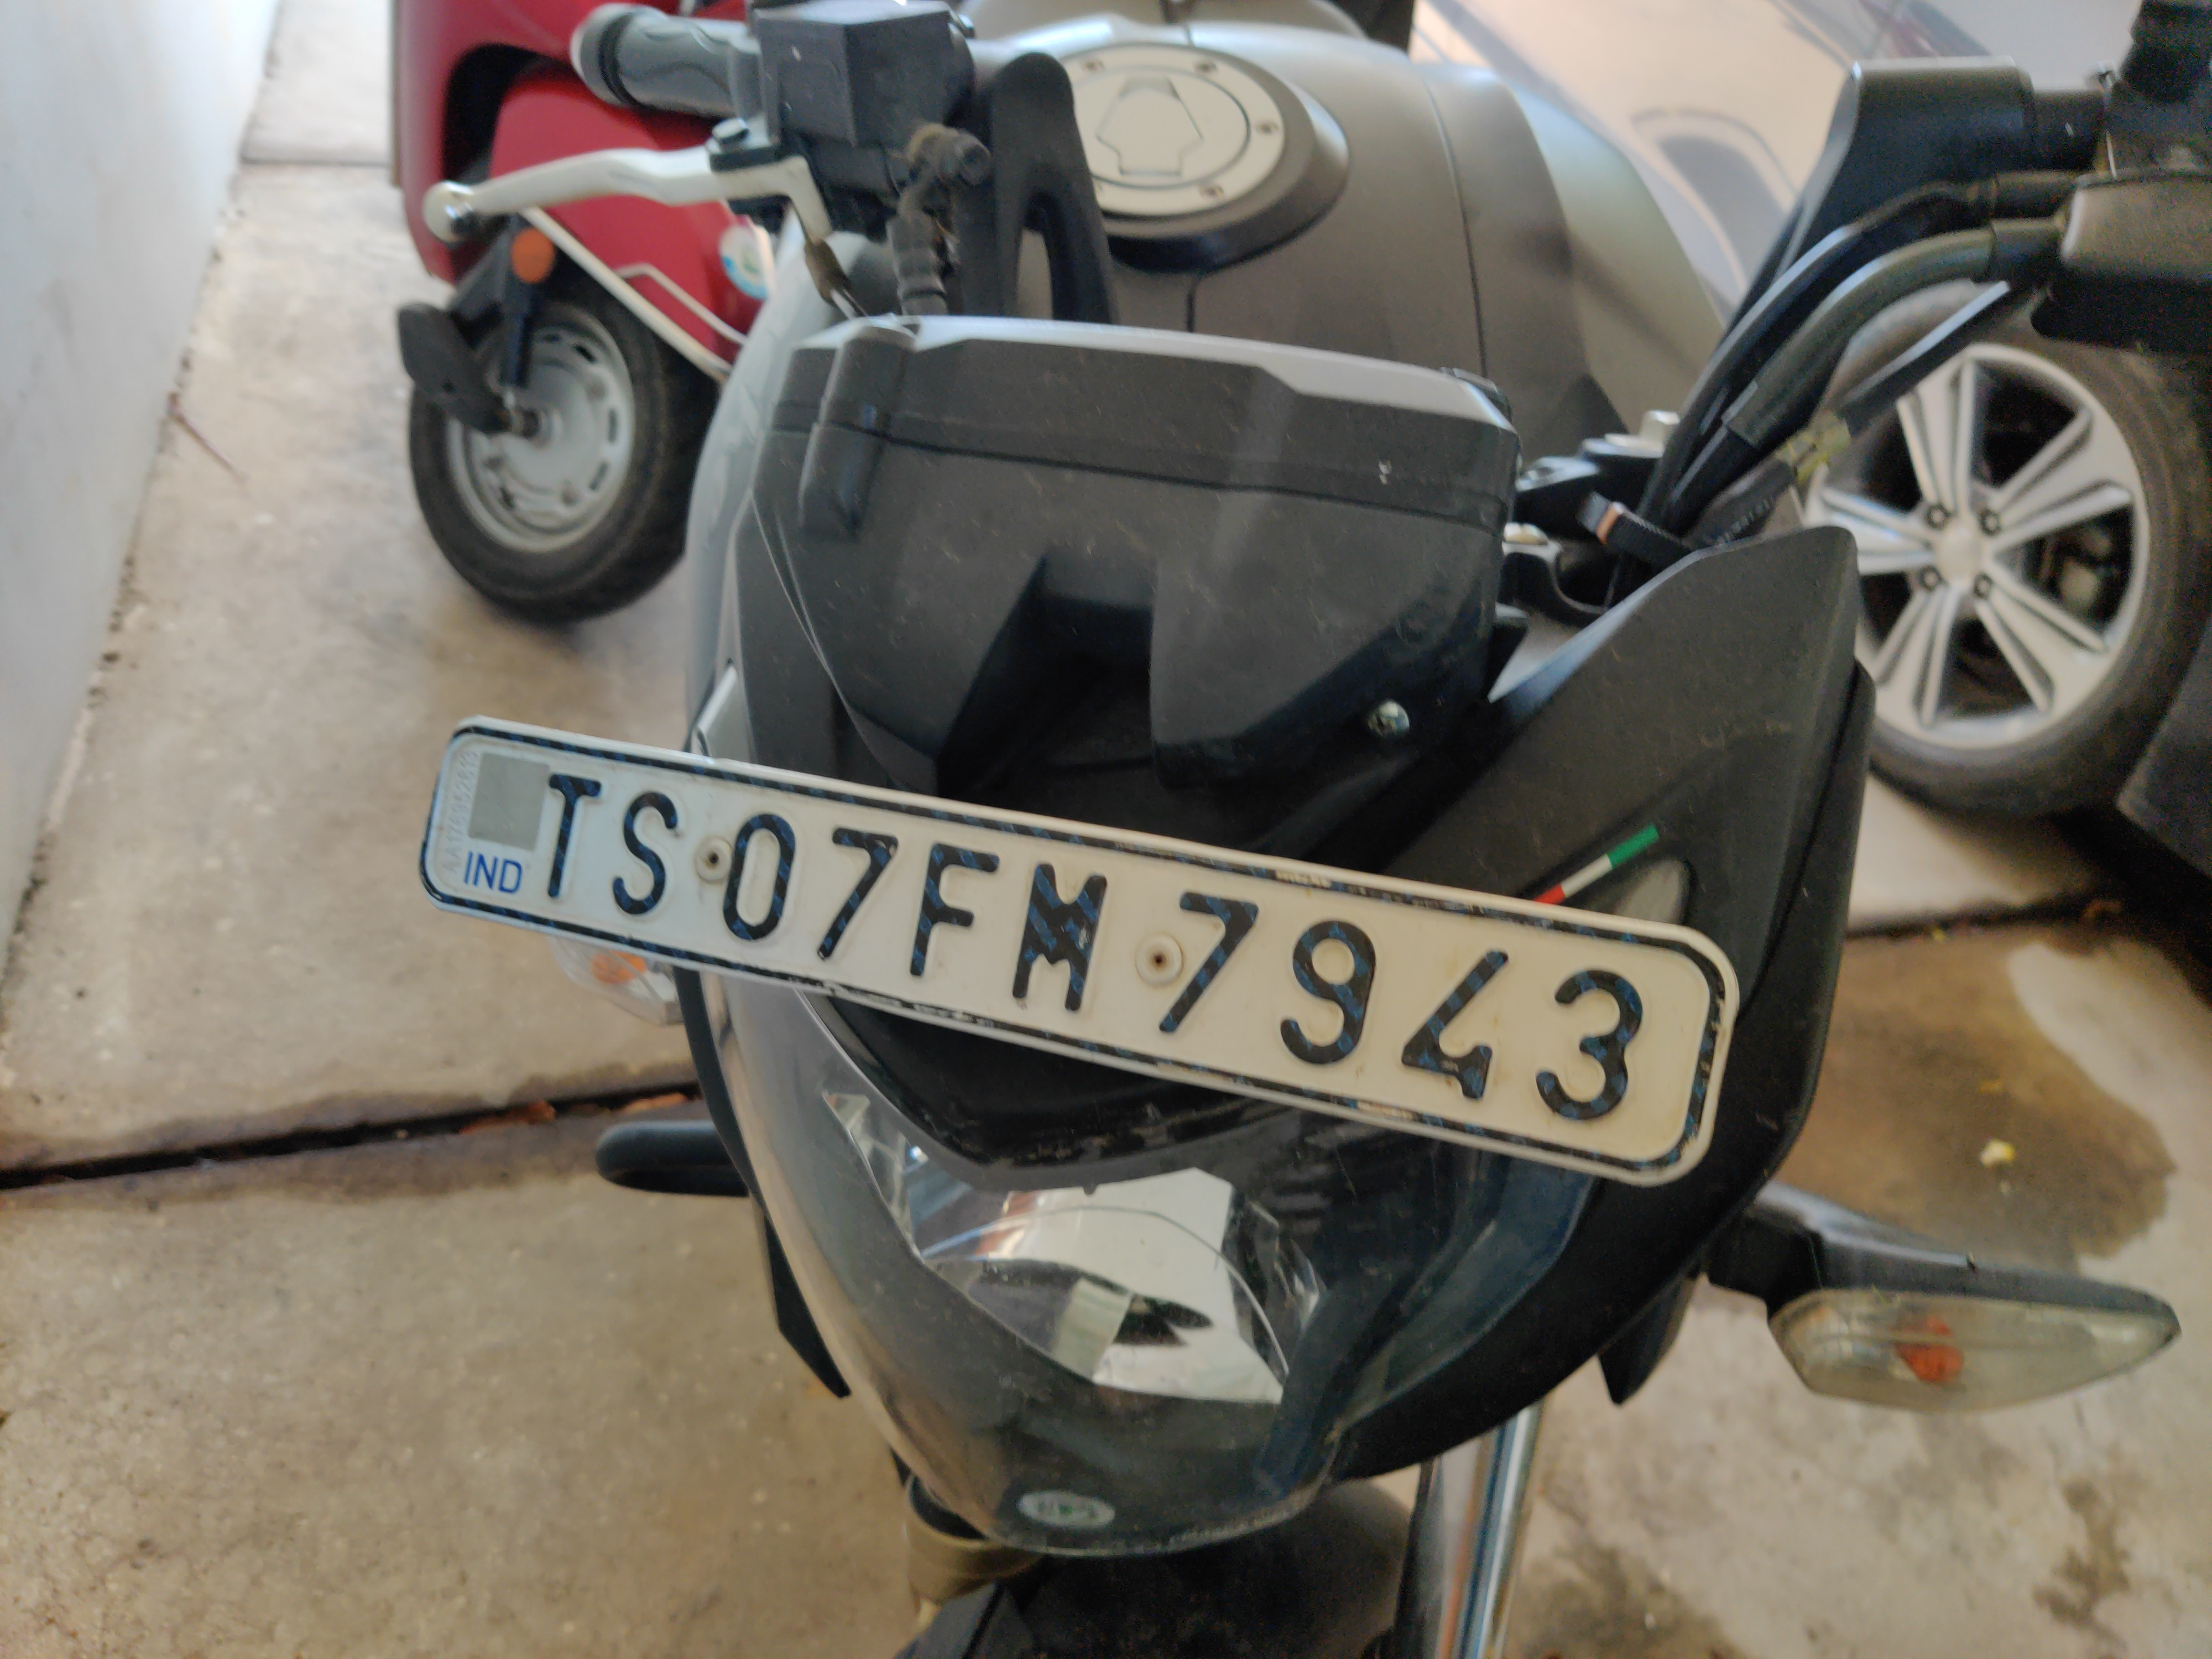plate: (392, 698, 1793, 1209)
